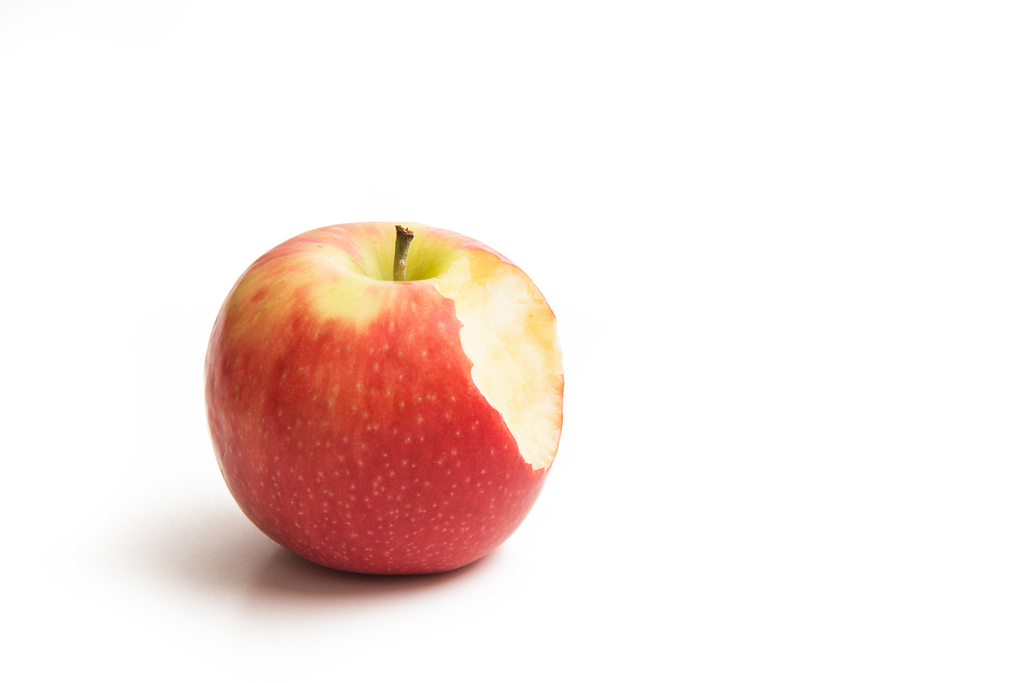Apple: (197, 208, 563, 581)
